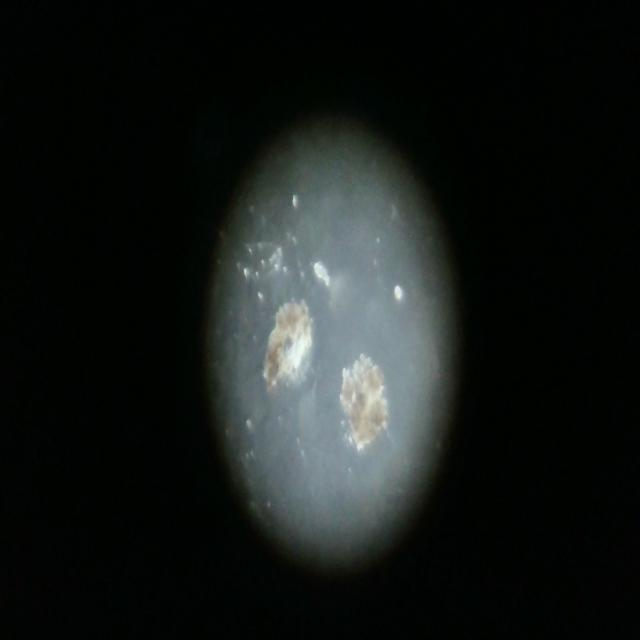alexandrium: (328, 322, 398, 485), (264, 287, 316, 401)
